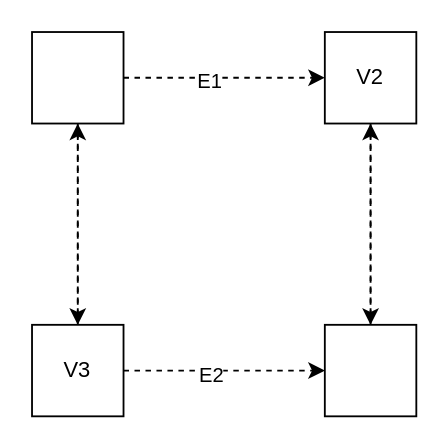
Some shapes in this 448 by 448 pixel diagram are drawn without their labels. The centre of each missing label's shape, as x and y in pixels:
"V1" belongs at point 77,77.
"V4" belongs at point 369,369.
